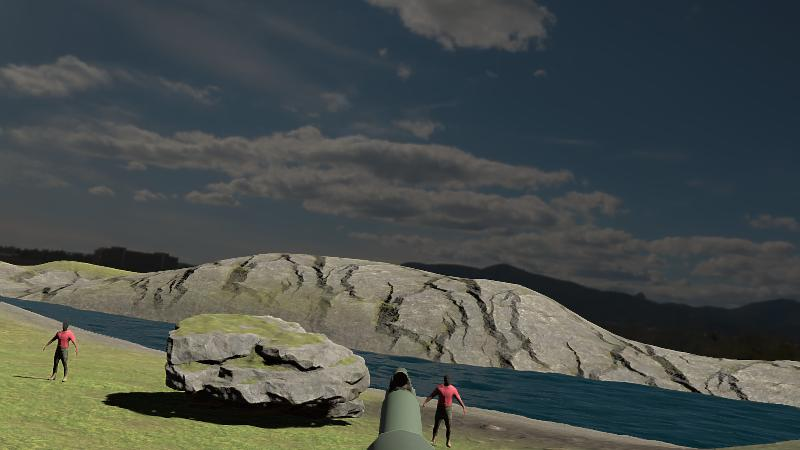Human: (423, 373, 466, 448), (423, 374, 465, 448), (43, 320, 78, 382)
